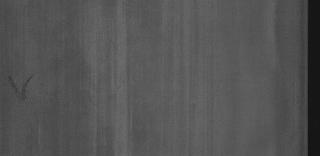water spot: (8, 70, 36, 106)
